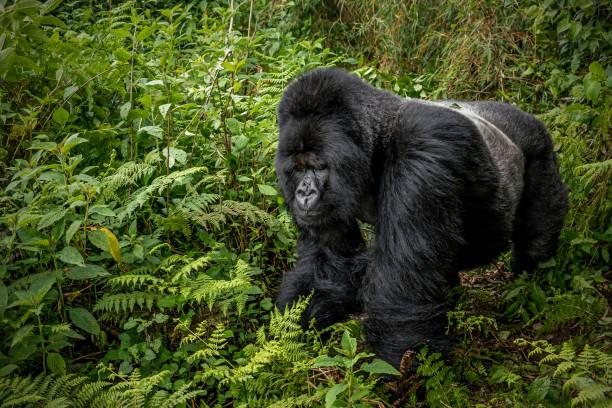goriile_montagne: (256, 52, 586, 352)
